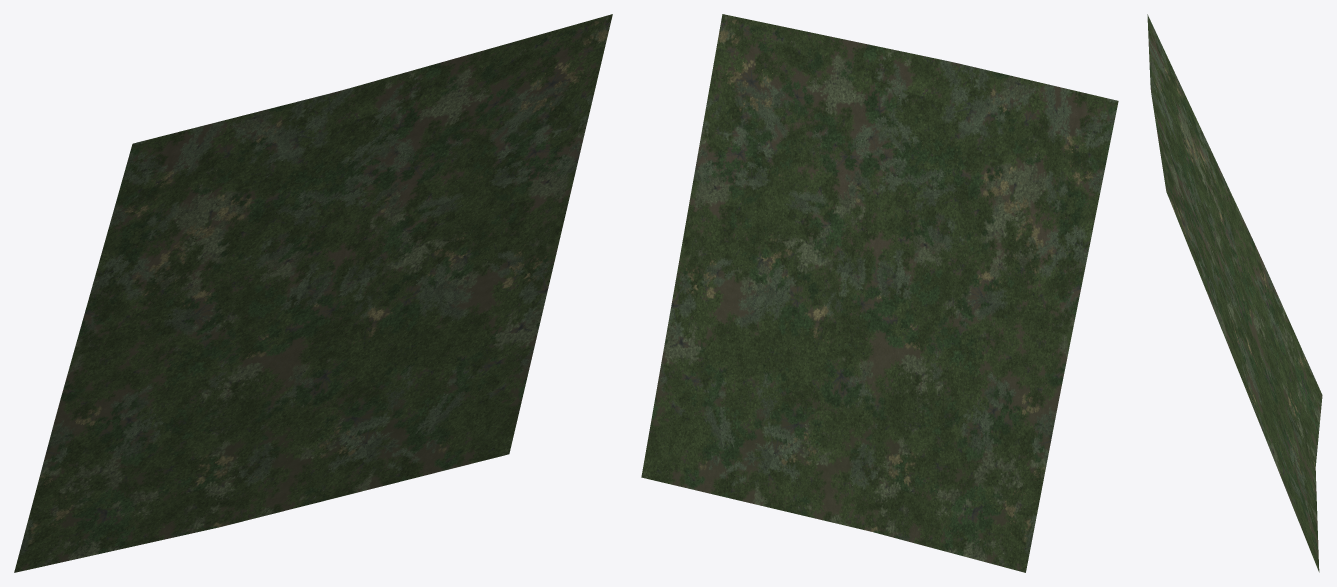
Rendered from terrain_core_00_05.obj.
The picture shows the model from 3 angles, left to right: view 1: azimuth 30°, elevation 25°; view 2: azimuth 150°, elevation 25°; view 3: azimuth 270°, elevation 25°; orthographic projection. The views are drawn at different scales.
Visible parts, largest first — view 1: terrain_core_00_05; view 2: terrain_core_00_05; view 3: terrain_core_00_05.
Boxes of the visible parts, x1,y1,x2,y2 form: terrain_core_00_05: [14, 14, 612, 572]; terrain_core_00_05: [641, 14, 1118, 572]; terrain_core_00_05: [1147, 14, 1322, 572].
Size of the model in its own units: 32 by 32 by 13.32.
1 material, 1 textured.
